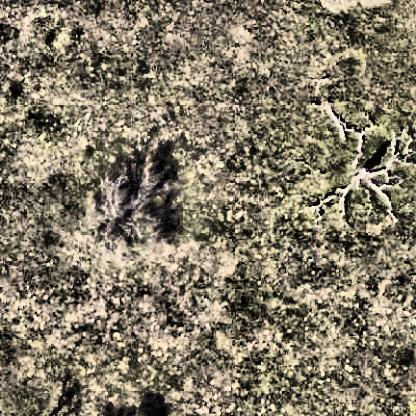tree-top: (76, 168, 169, 255)
